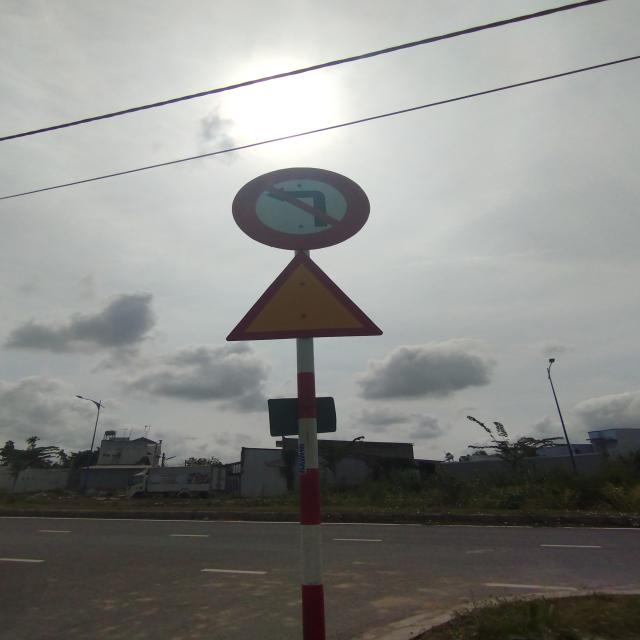Cam_Re_Trai: (232, 167, 370, 252)
Gioi_Han_Toc_Do_25: (227, 252, 383, 343)
